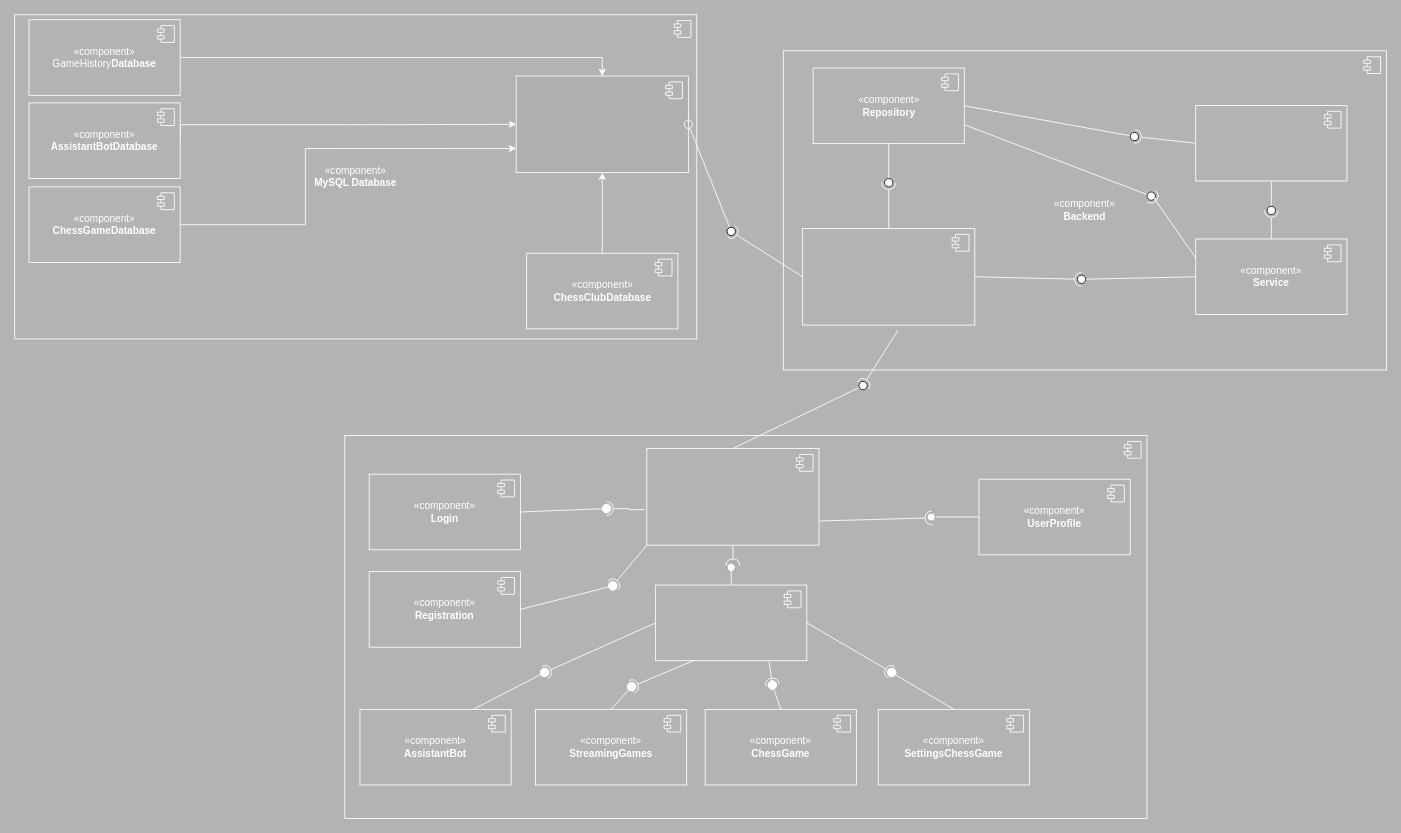
Image size: 1401x833. Some labels were removed from this diagram. The shapes that lost their labels are listed below. From the top down, each one's centre as x and y in pixels, then its label:
At pixel 601 124: "«component» Database".
At pixel 1271 143: "«component» ServiceImplementation".
At pixel 888 276: "«component» RestService/Controller".
At pixel 732 496: "«component» WebService".
At pixel 731 622: "«component» HomePage".
